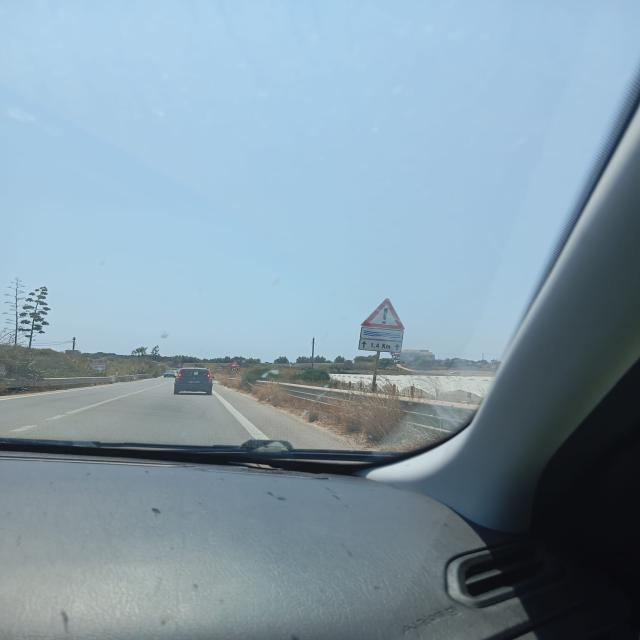forb_speed_over_50: (231, 368, 239, 372)
warn_left_curve: (229, 359, 241, 367)
